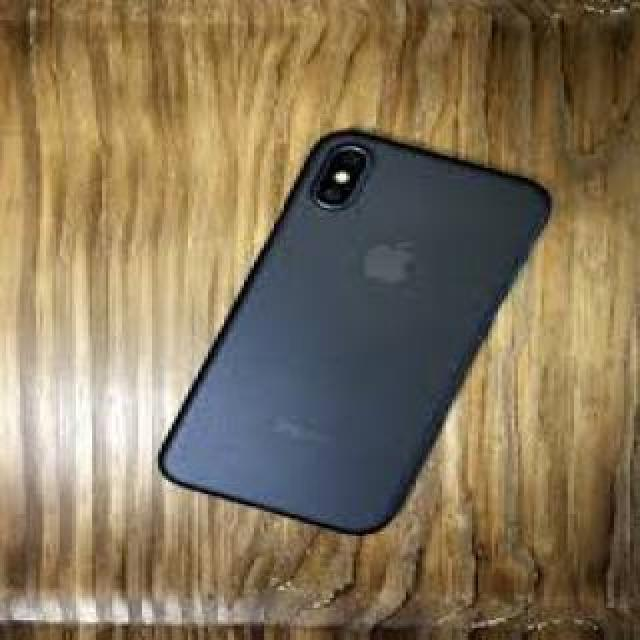smart phone: (146, 95, 562, 595)
